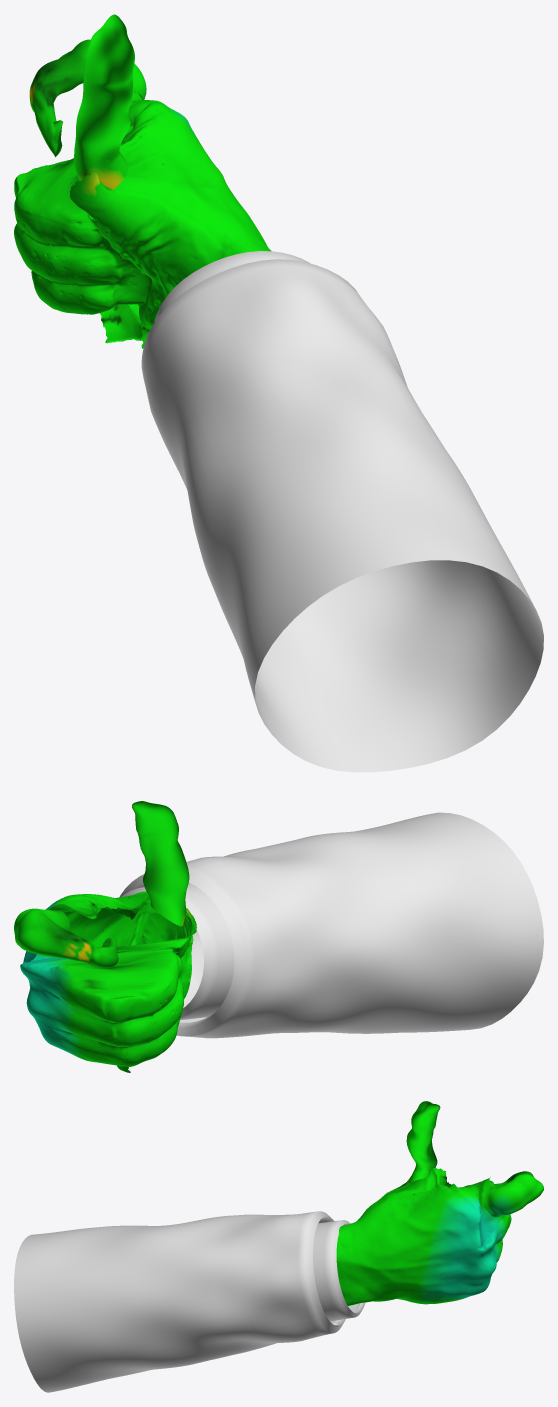
File: hand.glb
The picture shows the model from 3 angles, top to bottom: view 1: azimuth 30°, elevation 25°; view 2: azimuth 150°, elevation 25°; view 3: azimuth 270°, elevation 25°; orthographic projection. The views are drawn at different scales.
Parts seen in each view (by area): view 1: Sleeve, Hand, Cuff; view 2: Sleeve, Hand, Cuff; view 3: Sleeve, Hand, Cuff.
Boxes of the visible parts, <box> form: Sleeve: <box>141,259,543,772</box>; Hand: <box>14,14,271,348</box>; Cuff: <box>154,251,310,321</box>; Sleeve: <box>119,812,543,1038</box>; Hand: <box>14,801,196,1072</box>; Cuff: <box>121,884,234,1019</box>; Sleeve: <box>14,1211,345,1392</box>; Hand: <box>336,1101,543,1305</box>; Cuff: <box>313,1220,365,1321</box>.
Bounding box in the file's own units: 0.1834 × 0.2706 × 0.4467.
